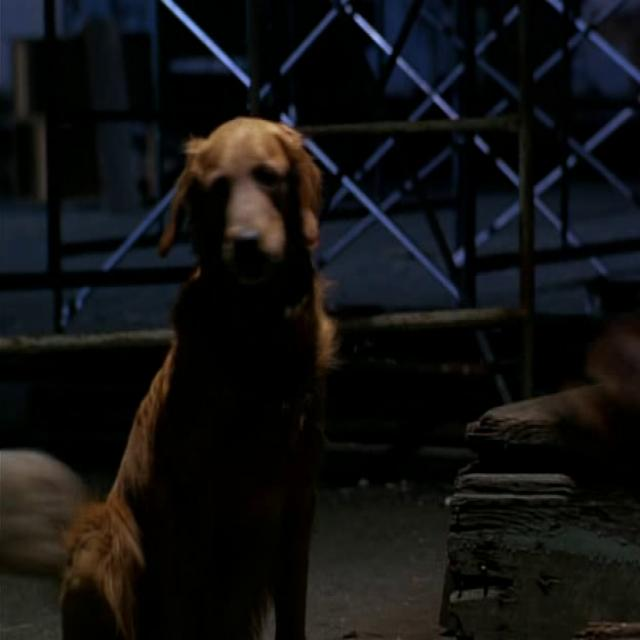Dog: (85, 103, 400, 623)
